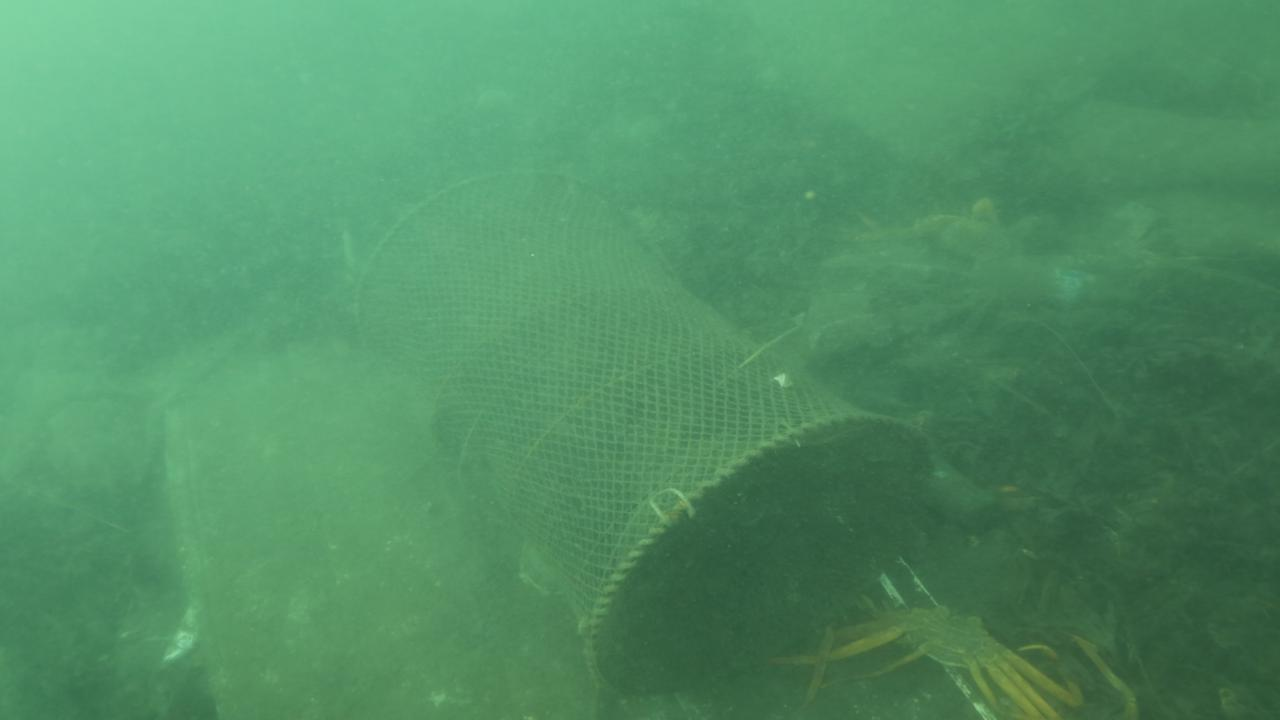spring fish trap: (348, 162, 939, 699)
